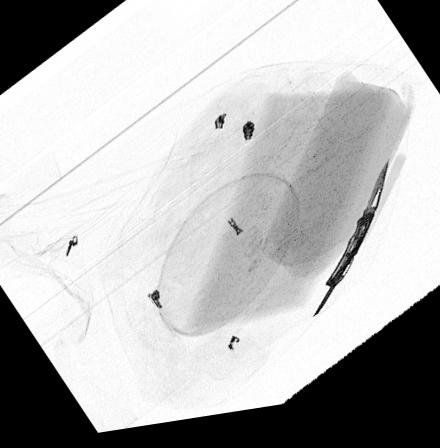Knife: (312, 173, 389, 328)
